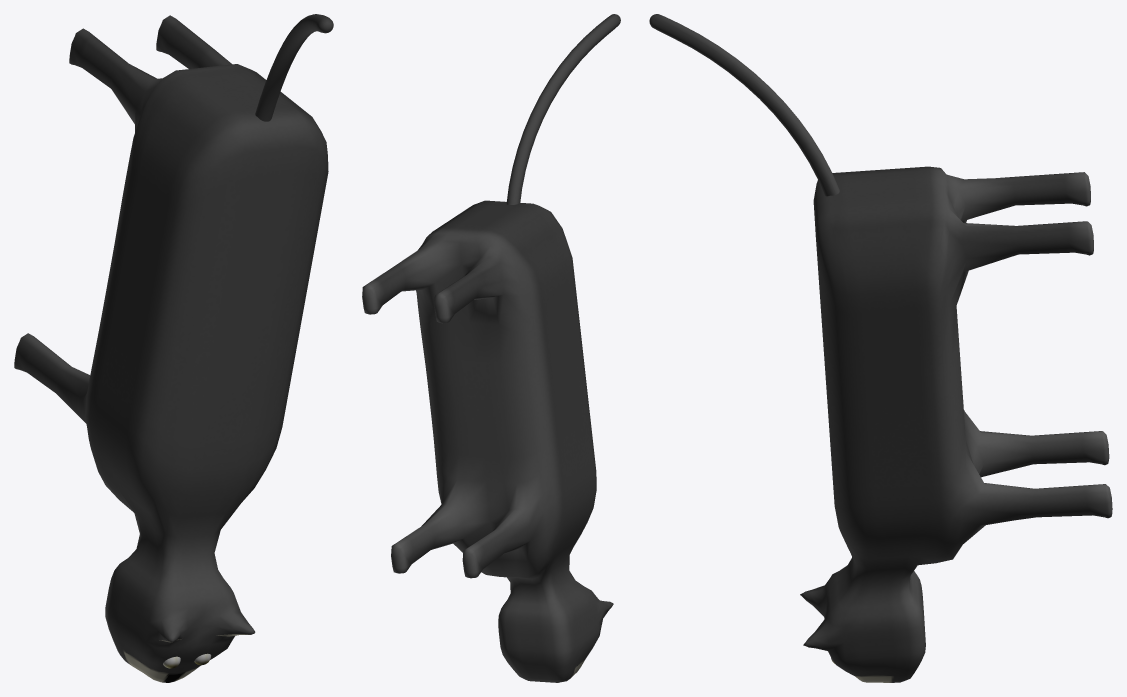
File: cat.obj
3 renders of one model, left to right at view 1: azimuth 30°, elevation 25°; view 2: azimuth 150°, elevation 25°; view 3: azimuth 270°, elevation 25°, orthographic. The views are drawn at different scales.
Parts seen in each view (by area): view 1: Box001; view 2: Box001; view 3: Box001.
Boxes of the visible parts, x1,y1,x2,y2 form: Box001: (14,14,333,682); Box001: (362,14,620,682); Box001: (649,14,1112,682).
Size of the model in its own units: 23.81 by 89.2 by 54.74.
1 material, 1 textured.
